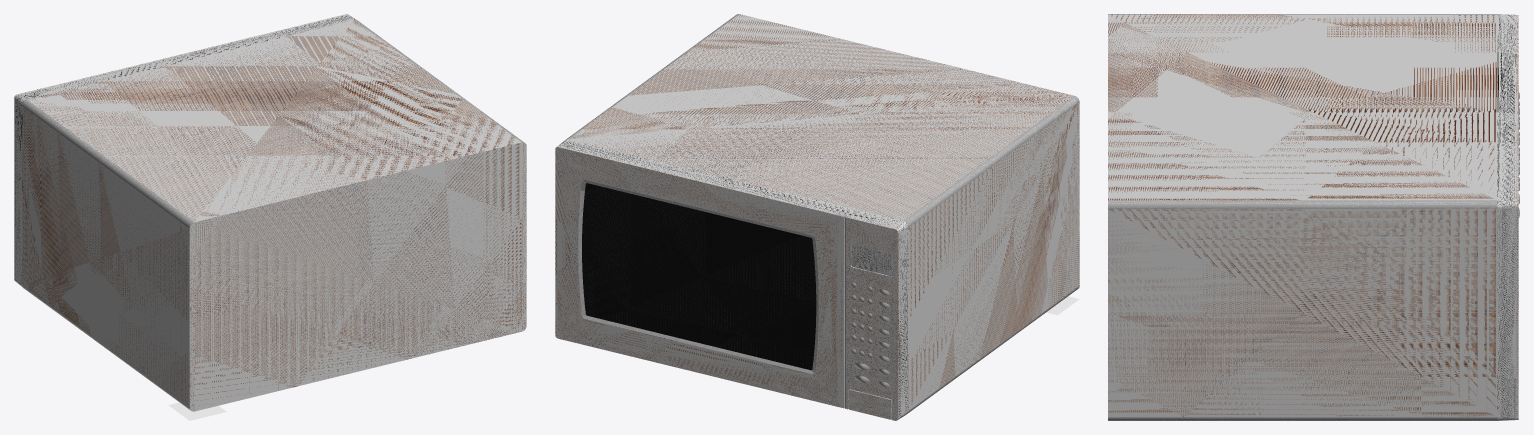
3 views of the same model, side by side, from view 1: azimuth 30°, elevation 25°; view 2: azimuth 150°, elevation 25°; view 3: azimuth 270°, elevation 25° (orthographic). The views are drawn at different scales.
Parts seen in each view (by area): view 1: mesh4_mesh4-geometry, mesh3_mesh3-geometry; view 2: mesh4_mesh4-geometry, mesh1_mesh1-geometry; view 3: mesh4_mesh4-geometry.
Part boxes in pixels (x1=…): mesh4_mesh4-geometry: x1=14, y1=14, x2=526, y2=411; mesh3_mesh3-geometry: x1=168, y1=402, x2=226, y2=420; mesh4_mesh4-geometry: x1=555, y1=14, x2=1079, y2=420; mesh1_mesh1-geometry: x1=851, y1=282, x2=889, y2=387; mesh4_mesh4-geometry: x1=1108, y1=14, x2=1518, y2=420.
Bounding box in the file's own units: 0.6835 × 0.3826 × 0.6217.
